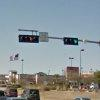Traffic light: (11, 28, 82, 53)
